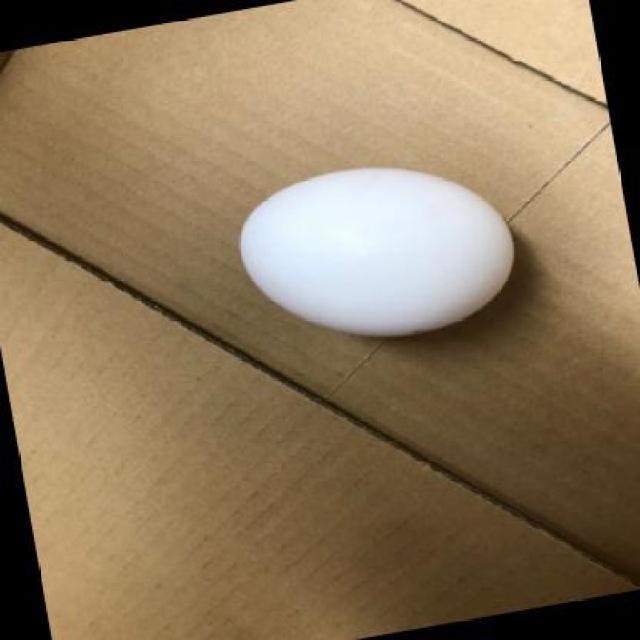egg: (240, 158, 521, 344)
